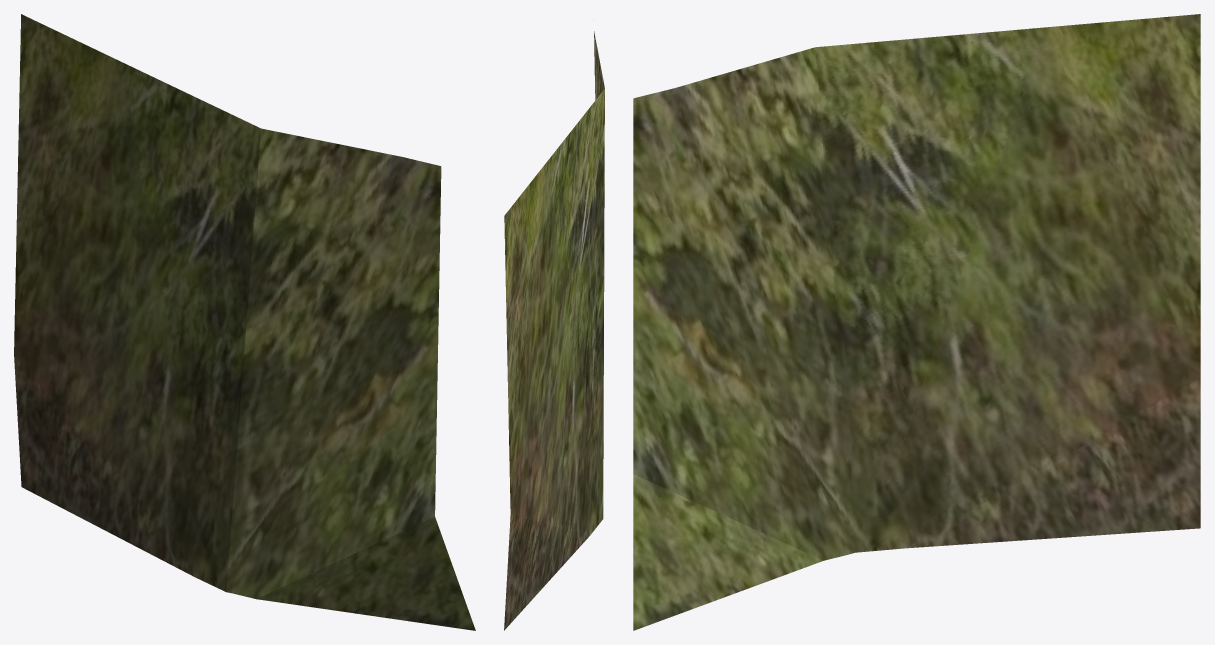
3 views of the same model, side by side, from view 1: azimuth 30°, elevation 25°; view 2: azimuth 150°, elevation 25°; view 3: azimuth 270°, elevation 25° (orthographic). The views are drawn at different scales.
Bounding box in the file's own units: 1.31 × 2.95 × 2.95.
3 materials, 3 textured.
